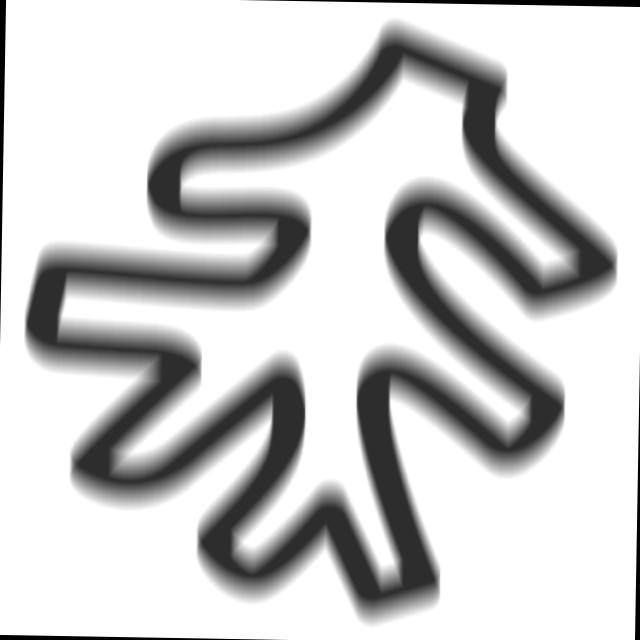coral: (9, 1, 638, 640)
